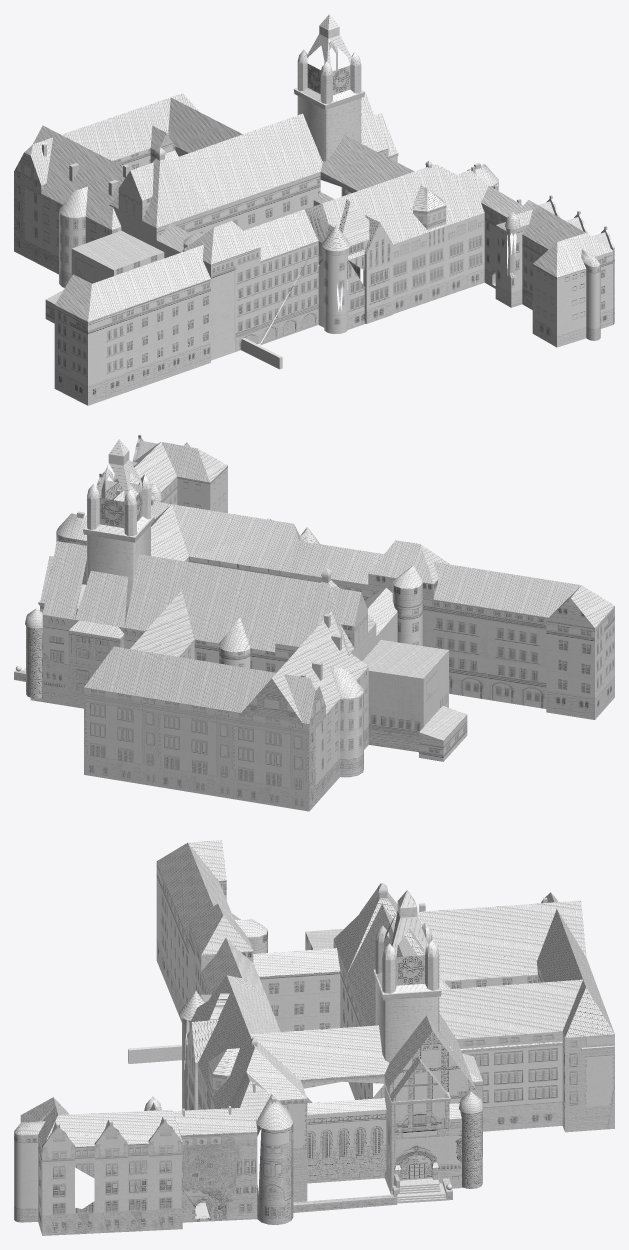
Rendered from 1Georg-Schumann-Bau.gltf.
The picture shows the model from 3 angles, top to bottom: view 1: azimuth 30°, elevation 25°; view 2: azimuth 150°, elevation 25°; view 3: azimuth 270°, elevation 25°; orthographic projection. The views are drawn at different scales.
Visible parts, largest first — view 1: Dach.1; view 2: Dach.1; view 3: Dach.1.
Boxes of the visible parts, x1,y1,x2,y2 form: Dach.1: [14, 14, 614, 405]; Dach.1: [14, 434, 614, 811]; Dach.1: [14, 840, 614, 1235].
Size of the model in its own units: 126 by 56.88 by 114.
50 materials, 50 textured.
